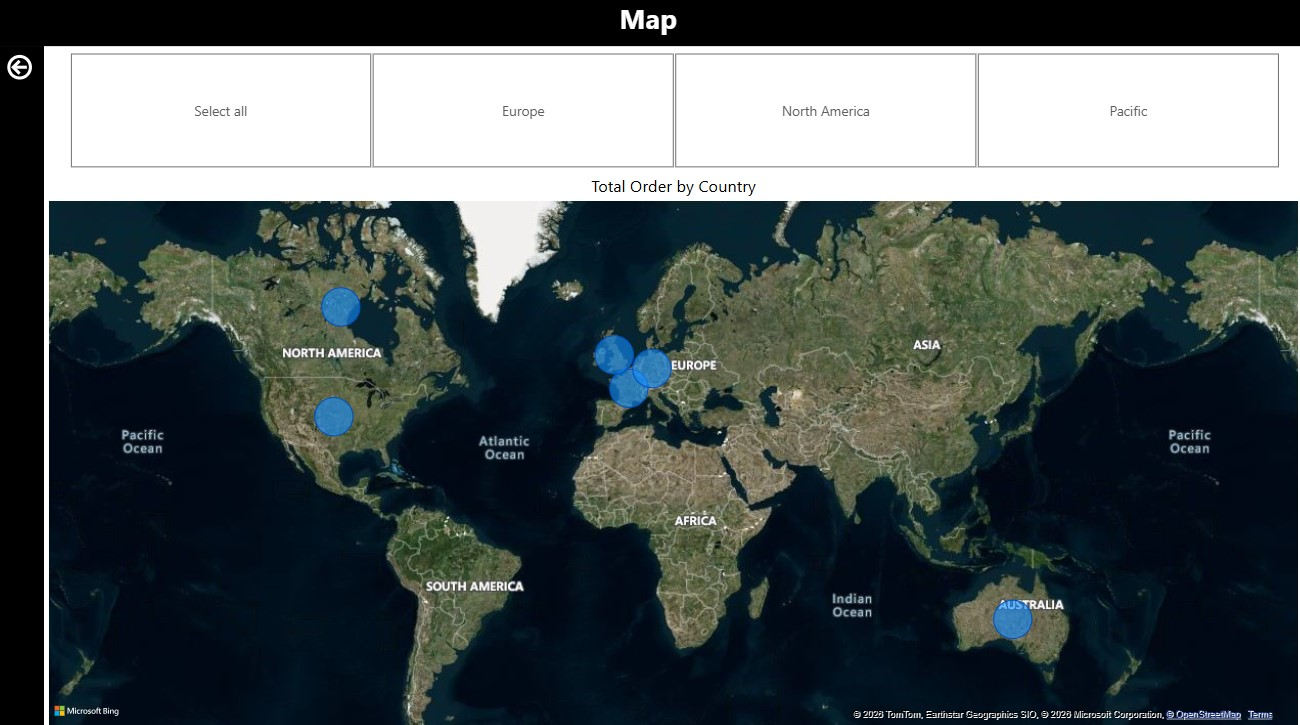

The page's visual inventory and layout, read from the dashboard file:
{"tool":"powerbi","page":{"name":"Maps","canvas":[1400,800],"ordinal":1},"visuals":[{"type":"actionButton","box":[0,0,100,40],"z":0},{"type":"shape","box":[0,0,50,800],"z":1000},{"type":"image","box":[71.7,110,170,121.7],"z":2000},{"type":"map","fields":{"Category":["Territory Lookup.Country"],"Size":["Measure Table.Total Order"]},"box":[71.7,285,1316.7,495],"z":3000},{"type":"image","box":[0,74.7,58.4,47.6],"z":4000},{"type":"image","box":[0,357.3,54.3,65.2],"z":5000},{"type":"image","box":[0,630.4,52,52],"z":6000},{"type":"slicer","title":"Contint","fields":{"Values":["Territory Lookup.Continent"]},"box":[335,98.3,1033.3,143.3],"z":7000},{"type":"textbox","box":[0,0,1388.3,58.3],"z":7001}]}

Visuals, with their boxes on the page's 1400x800 design canvas (x1, y1, x2, y2). These are canvas units, not pixel positions in the 1300x725 screenshot, which may show the page scaled, cropped or inside an application window:
actionButton: {"left": 0, "top": 0, "right": 100, "bottom": 40}
shape: {"left": 0, "top": 0, "right": 50, "bottom": 800}
image: {"left": 72, "top": 110, "right": 242, "bottom": 232}
map - Territory Lookup.Country x Measure Table.Total Order: {"left": 72, "top": 285, "right": 1388, "bottom": 780}
image: {"left": 0, "top": 75, "right": 58, "bottom": 122}
image: {"left": 0, "top": 357, "right": 54, "bottom": 422}
image: {"left": 0, "top": 630, "right": 52, "bottom": 682}
"Contint" slicer: {"left": 335, "top": 98, "right": 1368, "bottom": 242}
textbox: {"left": 0, "top": 0, "right": 1388, "bottom": 58}
